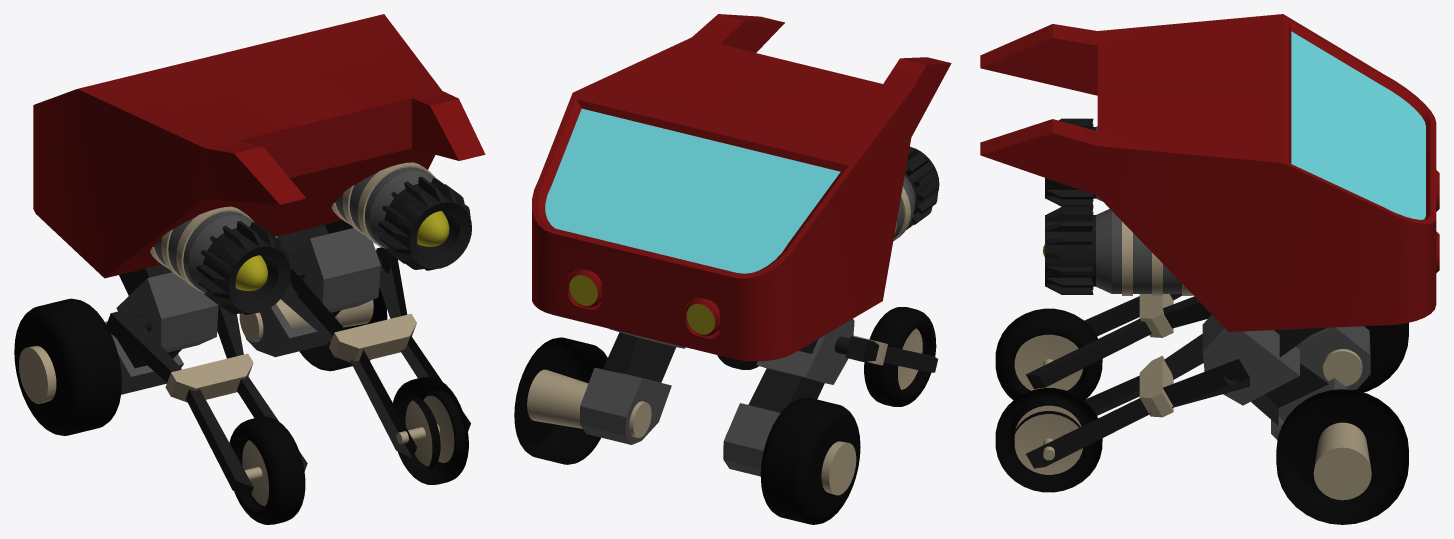
File: roboPlayer_000001.obj
3 renders of one model, left to right at view 1: azimuth 30°, elevation 25°; view 2: azimuth 150°, elevation 25°; view 3: azimuth 270°, elevation 25°, orthographic. The views are drawn at different scales.
Parts seen in each view (by area): view 1: Robo_Cube; view 2: Robo_Cube; view 3: Robo_Cube.
Boxes of the visible parts, x1,y1,x2,y2 form: Robo_Cube: [14, 14, 485, 524]; Robo_Cube: [514, 14, 951, 524]; Robo_Cube: [980, 14, 1439, 524].
Bounding box in the file's own units: 2.7 × 2.89 × 3.22.
